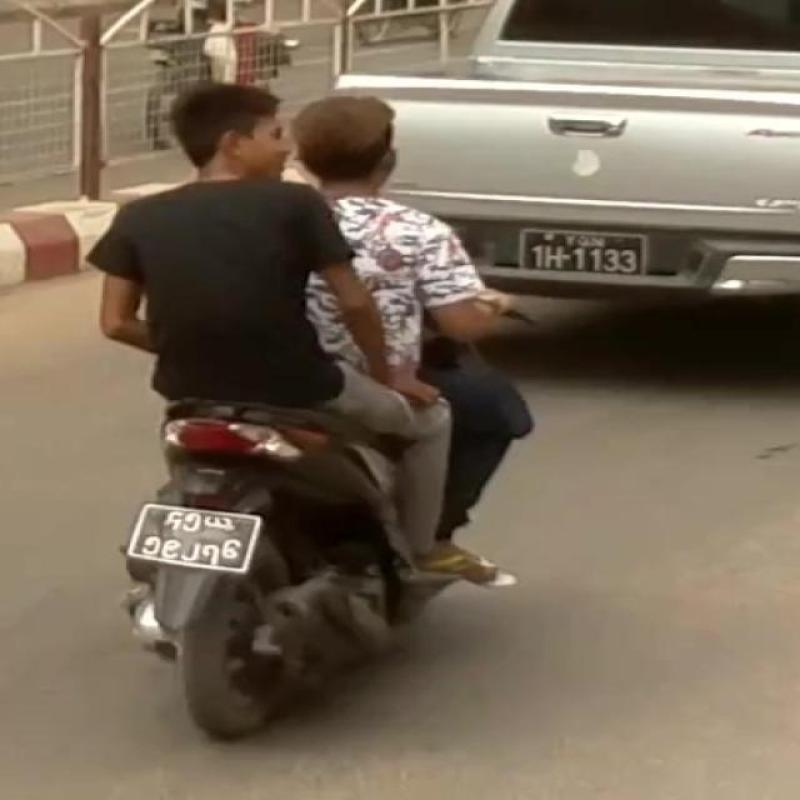nohelmet: (152, 81, 314, 208)
